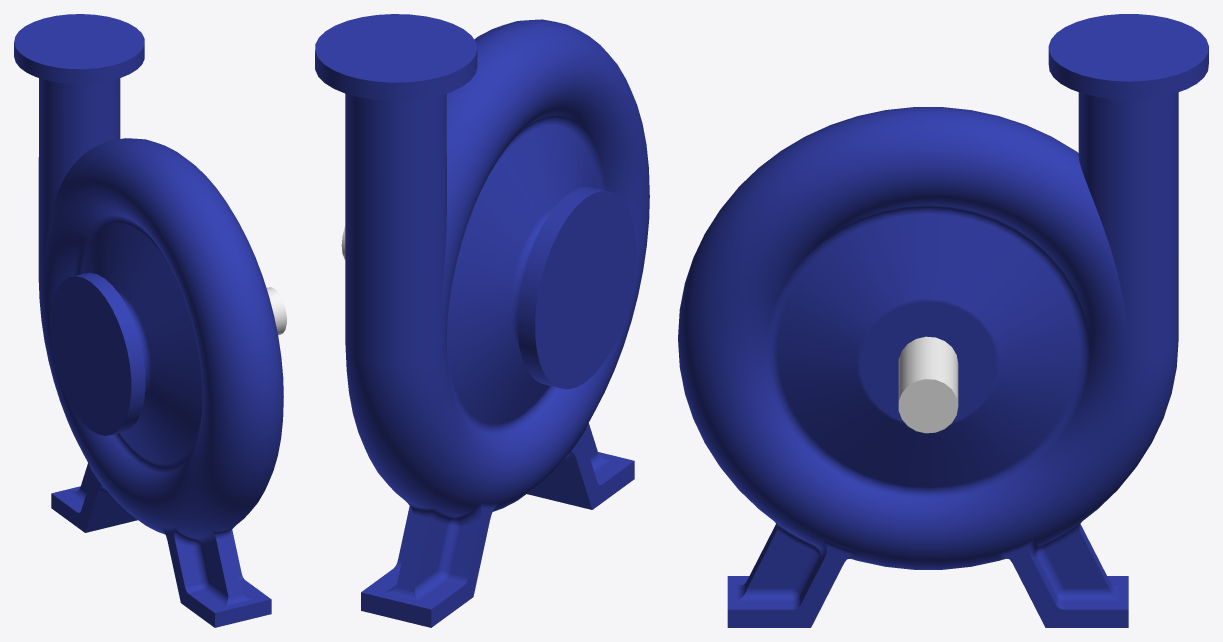
Rendered from Pumpe_Simple.obj.
The picture shows the model from 3 angles, left to right: view 1: azimuth 30°, elevation 25°; view 2: azimuth 150°, elevation 25°; view 3: azimuth 270°, elevation 25°; orthographic projection. The views are drawn at different scales.
Visible parts, largest first — view 1: Volumenkörper1; view 2: Volumenkörper1; view 3: Volumenkörper1.
Part boxes in pixels (left/top/right/bottom): Volumenkörper1: left=14, top=14, right=286, bottom=627; Volumenkörper1: left=315, top=14, right=649, bottom=627; Volumenkörper1: left=678, top=14, right=1208, bottom=627.
Size of the model in its own units: 0.26 by 0.62 by 0.5295.
